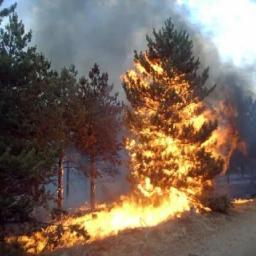Low smoke: (0, 0, 249, 186)
Medium fire: (16, 0, 230, 255)
